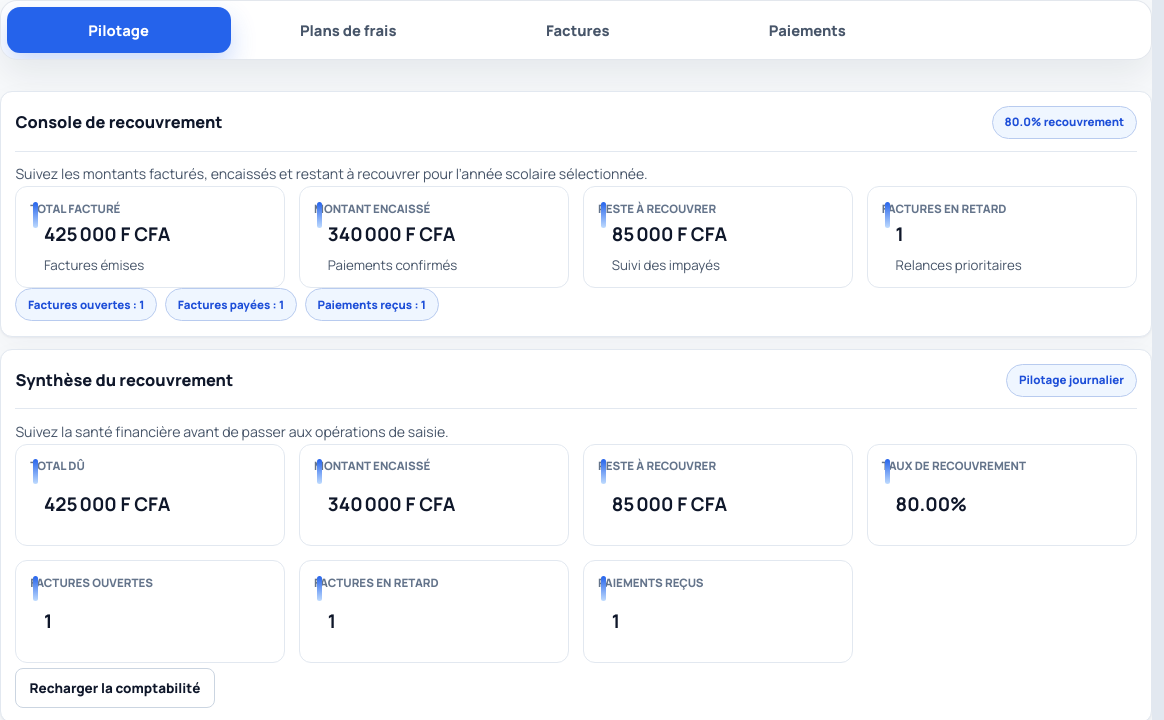
Test: FinanceScreen › ne prétend pas générer un PDF en mode aperçu local
Click the tab "Paiements". click: (807, 30)
box: left=695, top=7, right=919, bottom=53
(page scrolled)
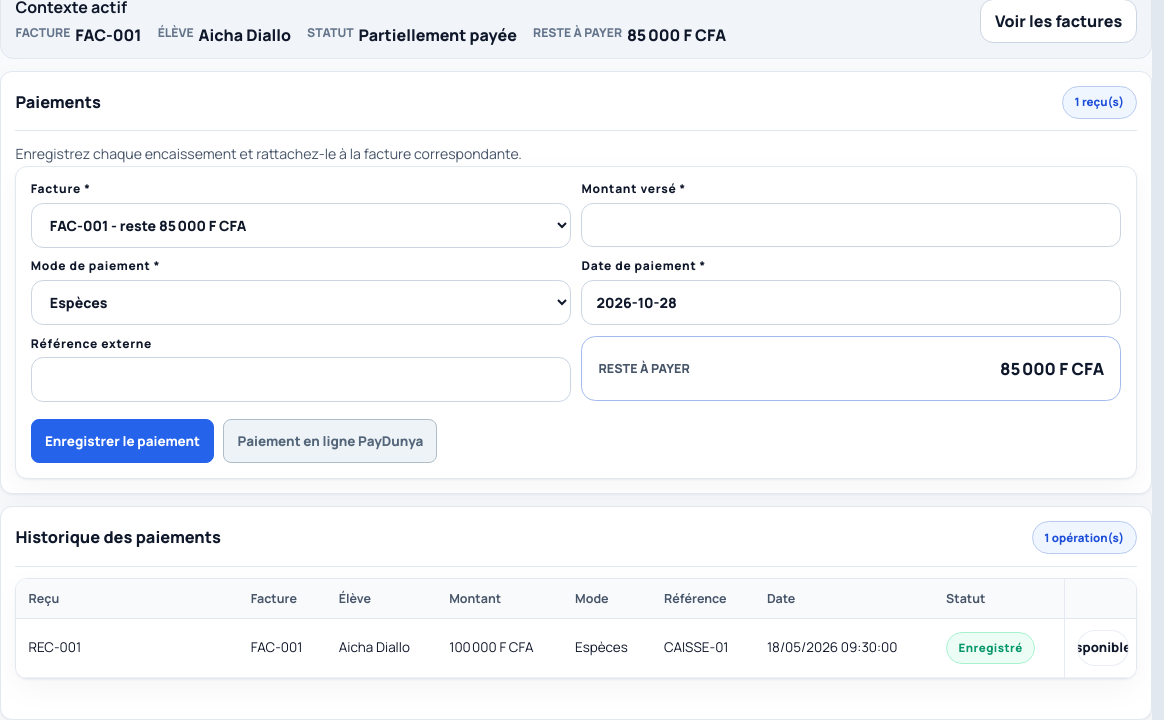
Result: the text "PDF non disponible en aperçu" is shown at left=1077, top=630, right=1129, bottom=666
